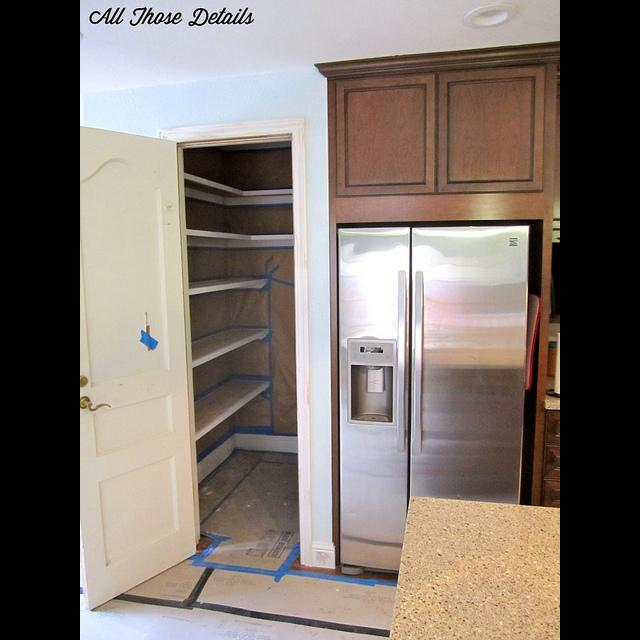Refrigerator: (336, 226, 529, 574)
